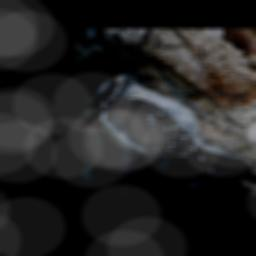Woodpecker: (90, 64, 256, 191)
